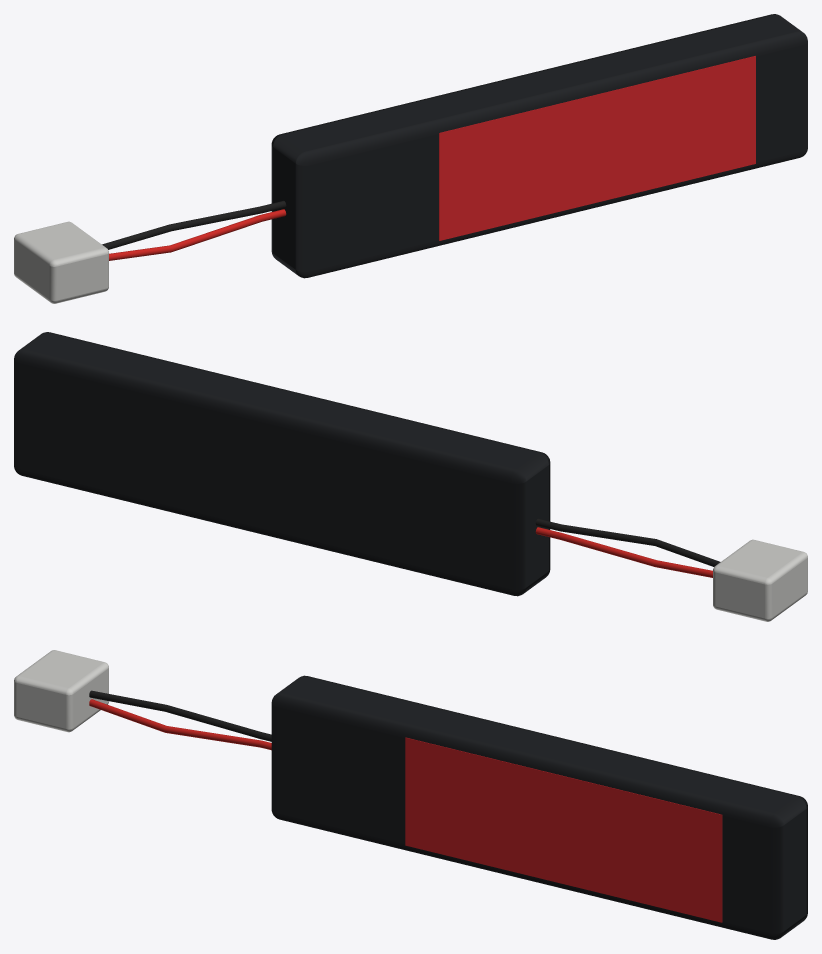
File: tattu-rline-1s-550.glb
3 renders of one model, top to bottom at view 1: azimuth 30°, elevation 25°; view 2: azimuth 150°, elevation 25°; view 3: azimuth 330°, elevation 25°, orthographic.
Visible parts, largest first — view 1: body, label, connector, lead_black, lead_red; view 2: body, connector, lead_black, lead_red; view 3: body, label, connector, lead_red, lead_black.
Part boxes in pixels (x1,y1,x2,y2): body: [271, 14, 807, 278]; label: [439, 56, 755, 240]; connector: [14, 221, 108, 303]; lead_black: [102, 200, 286, 249]; lead_red: [109, 209, 286, 260]; body: [14, 332, 550, 596]; connector: [713, 539, 807, 621]; lead_black: [535, 518, 720, 566]; lead_red: [535, 527, 712, 577]; body: [271, 675, 807, 939]; label: [405, 737, 722, 922]; connector: [14, 650, 108, 732]; lead_red: [89, 699, 271, 750]; lead_black: [89, 690, 271, 741].
Size of the model in its own units: 98.6 by 15.5 by 9.
